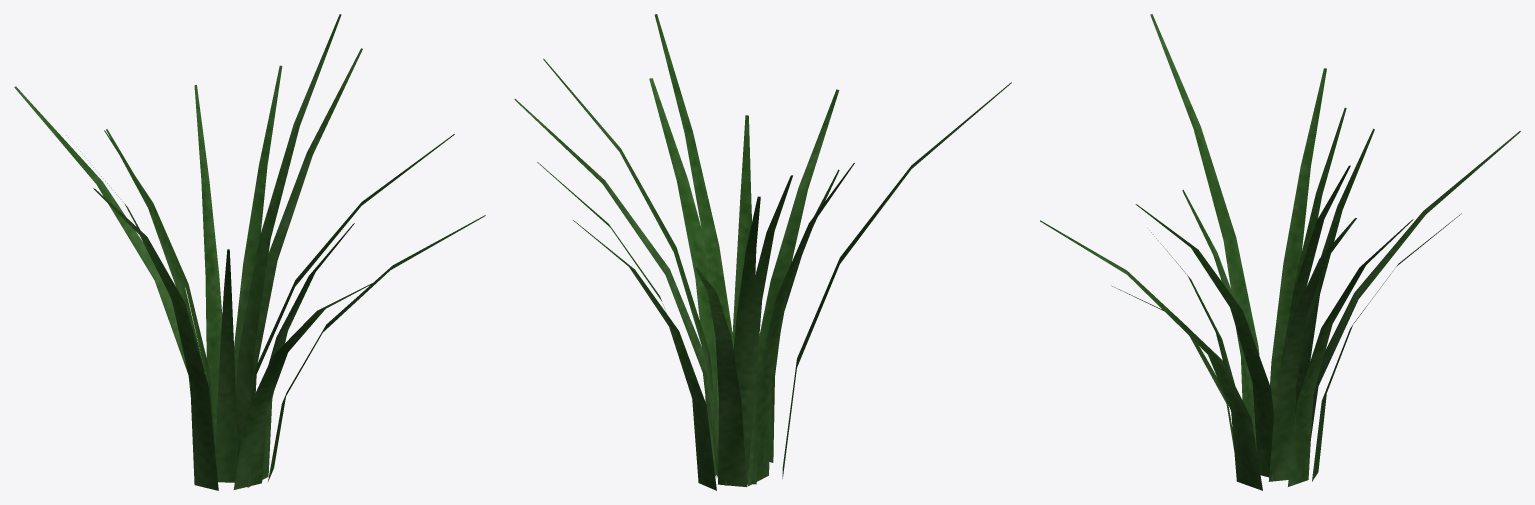
The model's file is grass_tuft_1.glb.
The picture shows the model from 3 angles, left to right: view 1: azimuth 30°, elevation 25°; view 2: azimuth 150°, elevation 25°; view 3: azimuth 270°, elevation 25°; orthographic projection. The views are drawn at different scales.
Parts seen in each view (by area): view 1: grass_tuft_1; view 2: grass_tuft_1; view 3: grass_tuft_1.
Part boxes in pixels (box(x1,y1,x2,y2)): grass_tuft_1: box(14, 14, 485, 490); grass_tuft_1: box(514, 14, 1011, 490); grass_tuft_1: box(1040, 14, 1520, 490).
Bounding box in the file's own units: 0.7283 × 0.7291 × 0.8412.
Materials: 1 (1 with a texture image).
